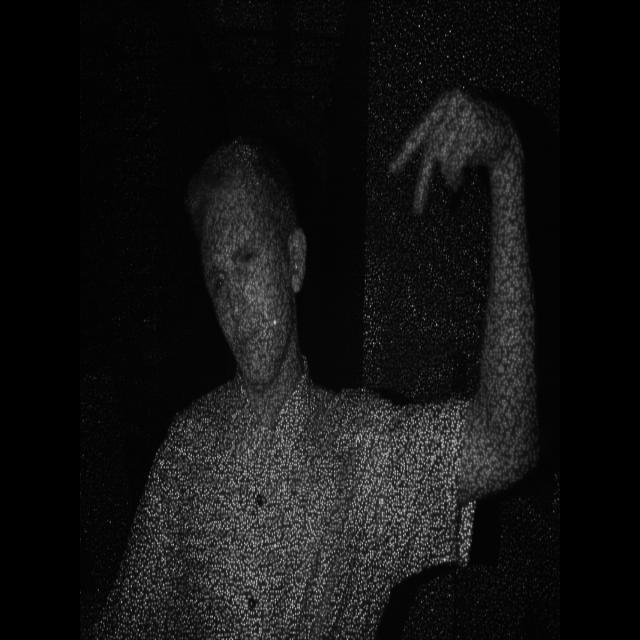P: (383, 65, 501, 223)
